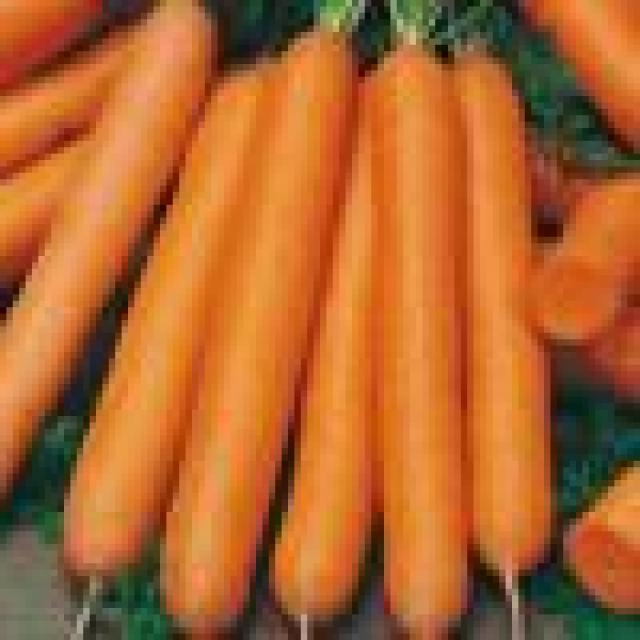Fresh_Carrot: (163, 37, 354, 625), (0, 6, 215, 459), (463, 56, 550, 570)
